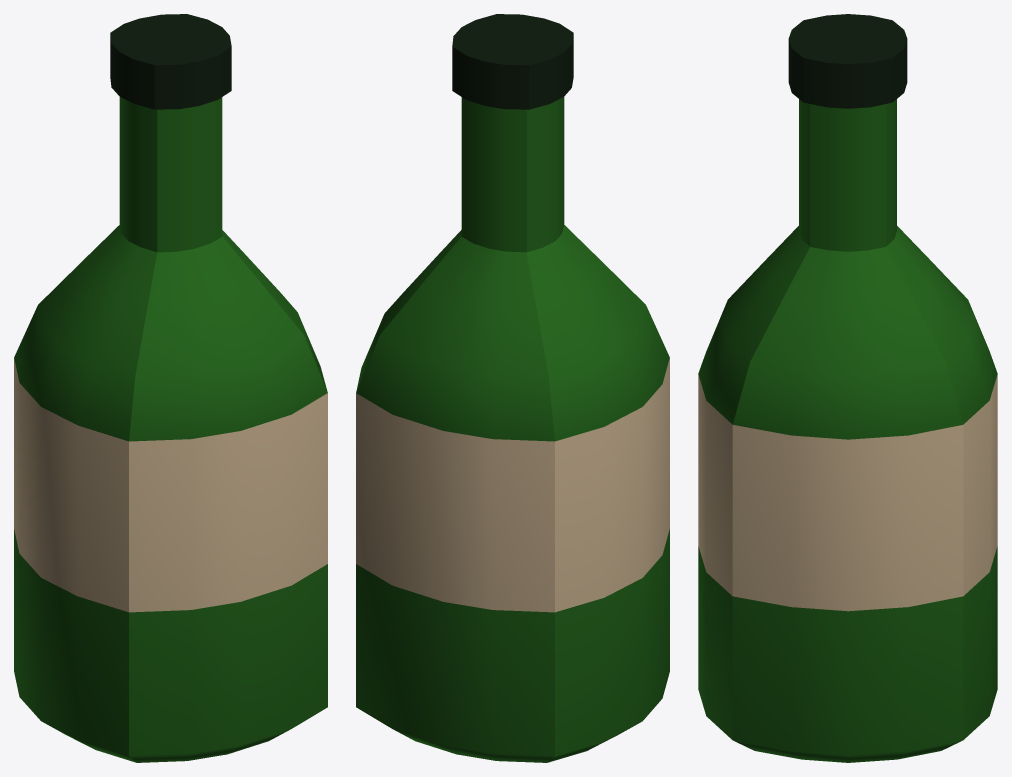
Rendered from Drink.fbx.
The picture shows the model from 3 angles, left to right: view 1: azimuth 30°, elevation 25°; view 2: azimuth 150°, elevation 25°; view 3: azimuth 270°, elevation 25°; orthographic projection.
Visible parts, largest first — view 1: pCube1; view 2: pCube1; view 3: pCube1.
Part boxes in pixels (bbox=[...]): pCube1: bbox=[14, 14, 327, 762]; pCube1: bbox=[356, 14, 669, 762]; pCube1: bbox=[698, 14, 997, 762].
Bounding box in the file's own units: 1.31 × 3.27 × 1.3.
